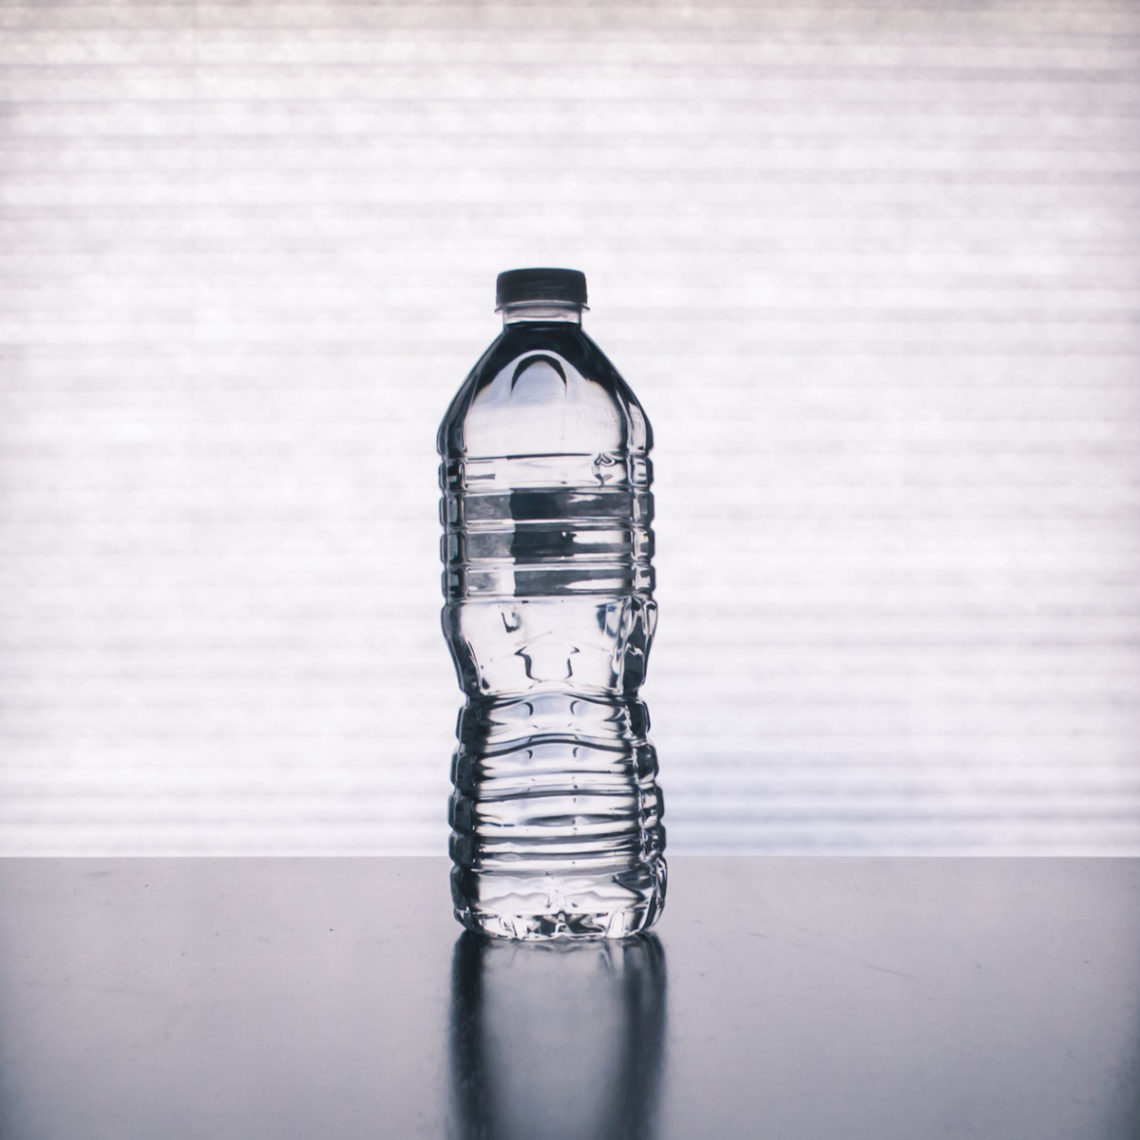plastic_bottle: (433, 253, 682, 968)
